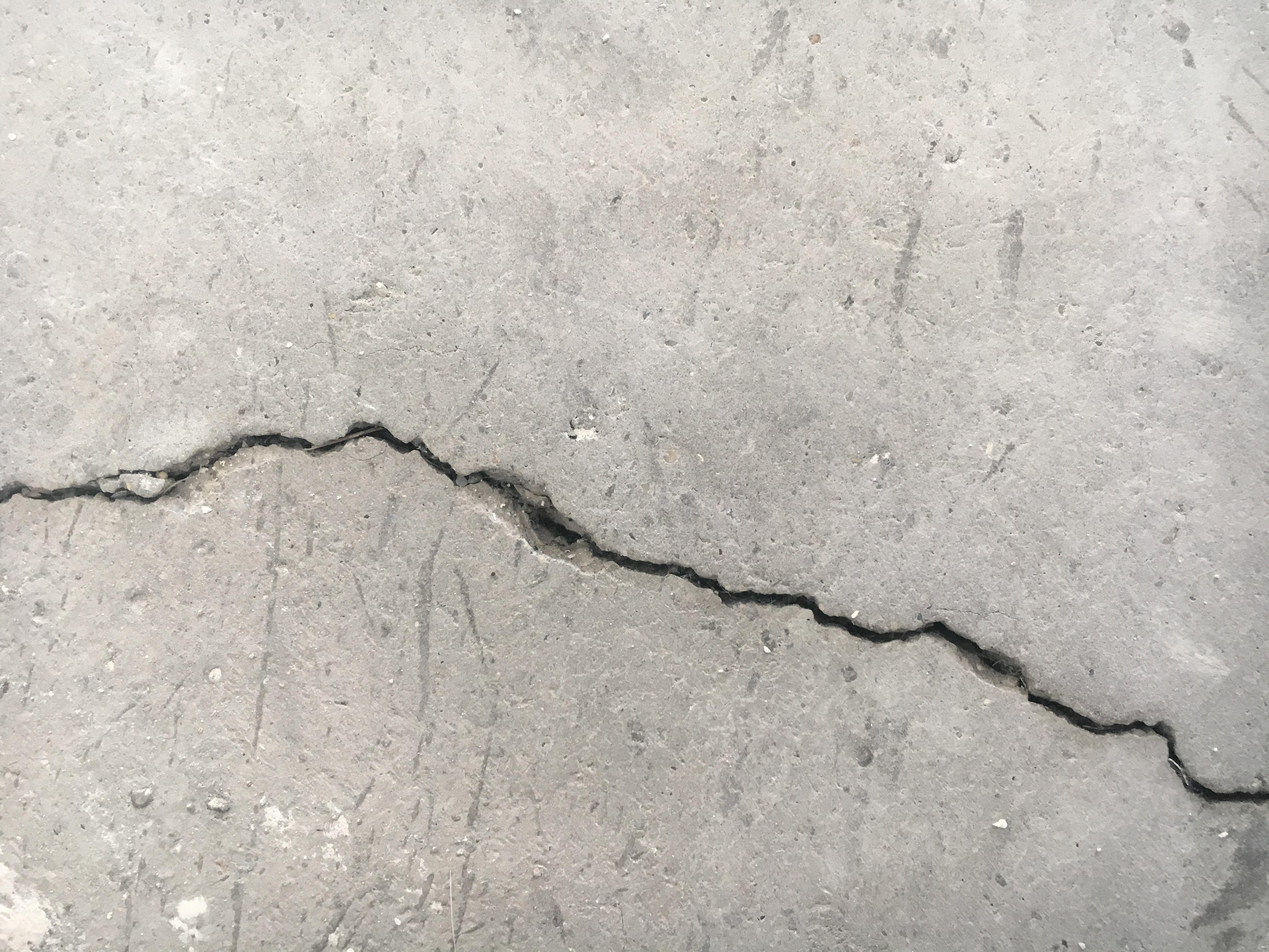Horizontal Settlement Crack: (4, 414, 1265, 811)
